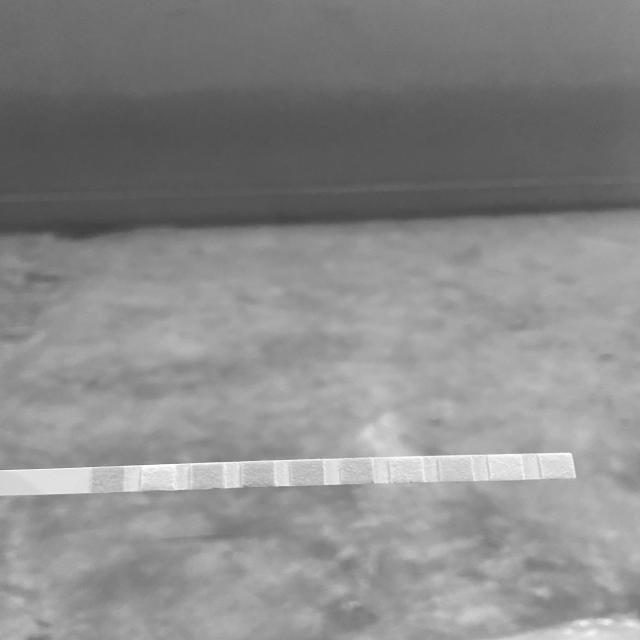Bilirubin: (141, 466, 173, 491)
Blood: (290, 460, 322, 484)
Glucose: (92, 468, 124, 492)
Ketone: (192, 464, 224, 488)
Leukocytes: (541, 453, 573, 478)
Nitrite: (488, 455, 520, 479)
Protein: (390, 458, 422, 482)
SpGravity: (242, 462, 274, 487)
Urobilinogen: (439, 457, 472, 481)
background: (0, 0, 640, 640)
pH: (339, 458, 372, 482)
strip: (0, 453, 576, 496)
